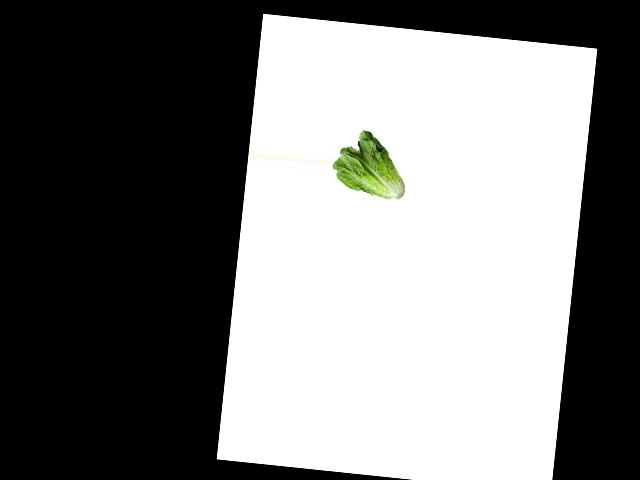lettuce: (328, 125, 410, 203)
